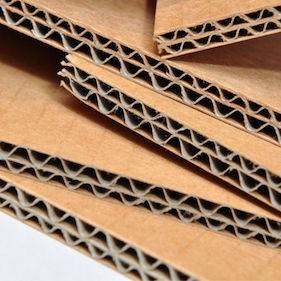Rec_Paper: (1, 1, 279, 275)
